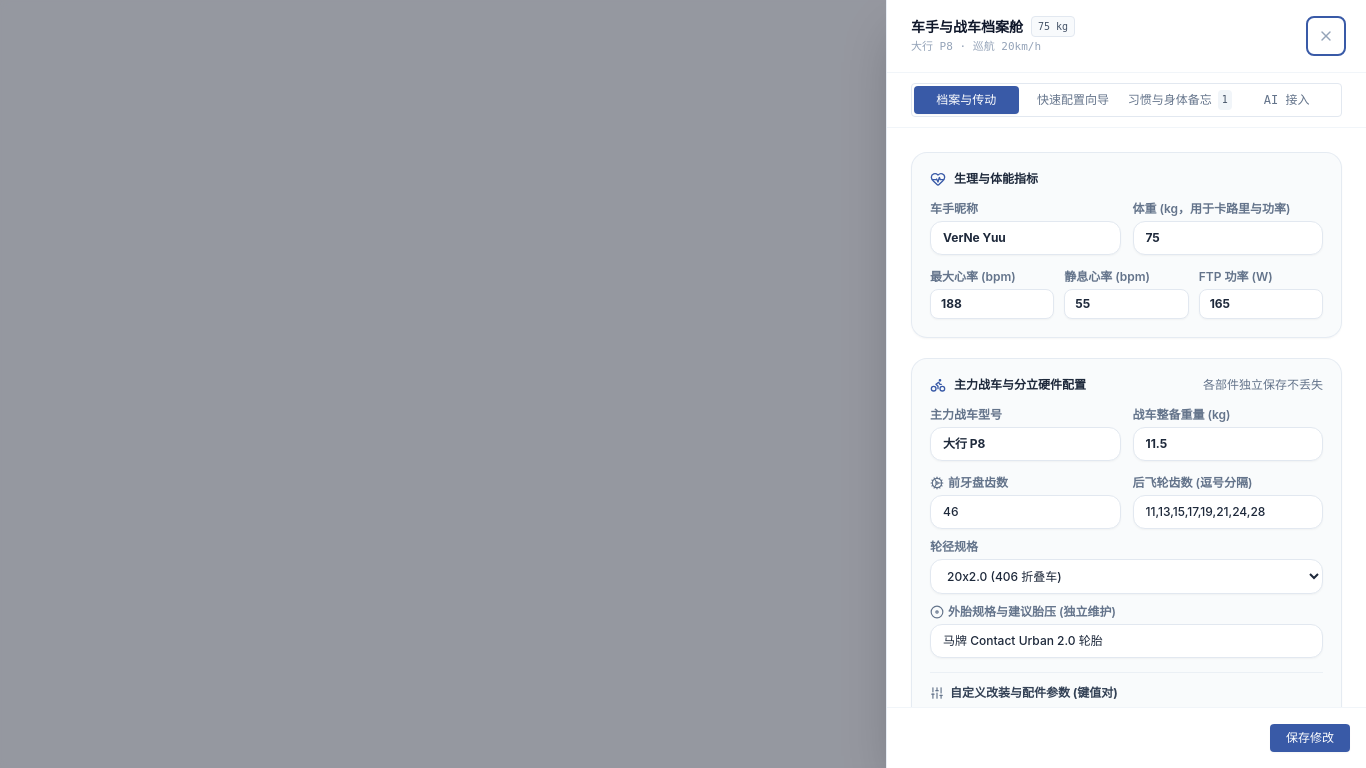
Test: RiderProfileDrawer 车手档案抽屉 › 保存修改：提交 PUT 请求并在成功后显示已保存
Click the button "保存修改": [1310, 738] box [1270,724,1350,752]
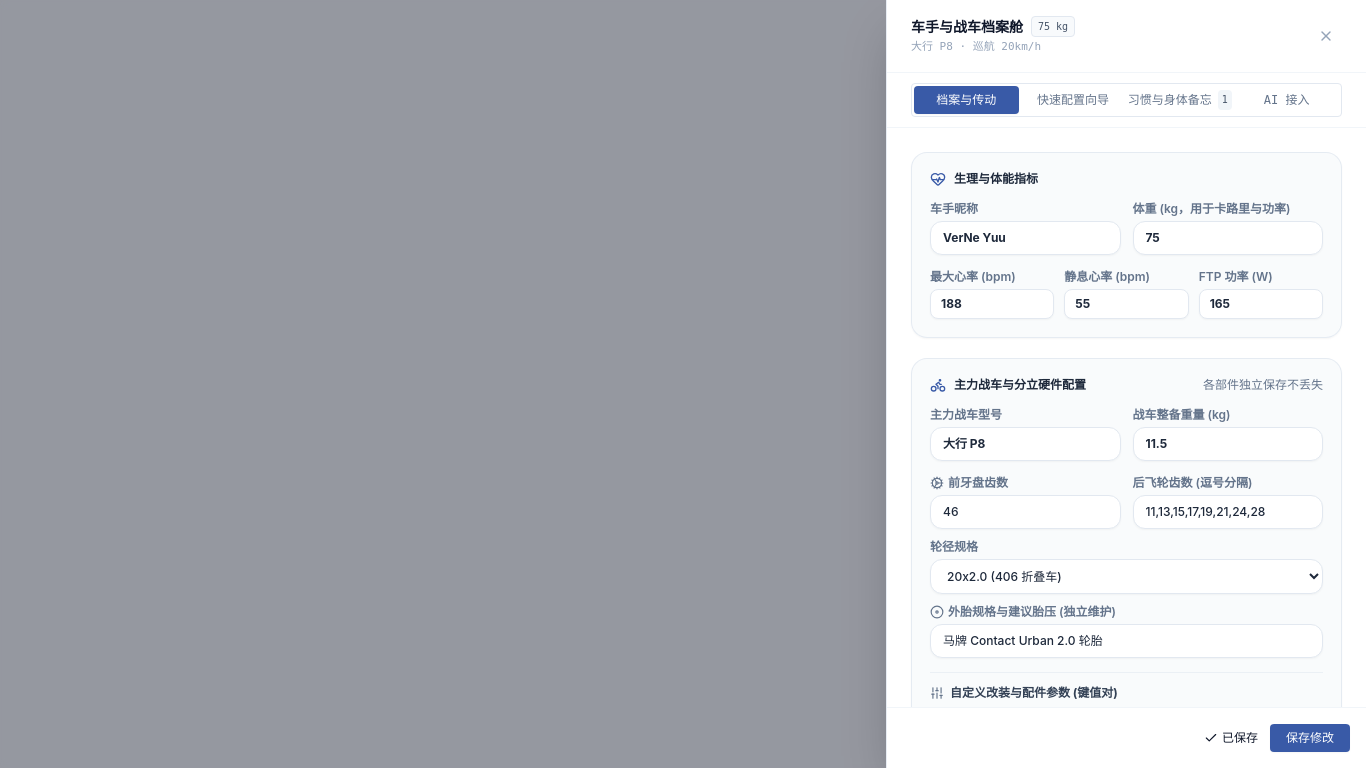
Result: the text "已保存" is shown at [1204,730,1258,746]
